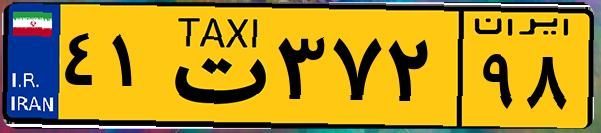1: (110, 28, 158, 98)
2: (385, 28, 445, 110)
3: (270, 28, 330, 110)
4: (57, 26, 110, 100)
7: (330, 28, 385, 110)
8: (525, 38, 570, 115)
9: (475, 38, 525, 113)
ت: (158, 12, 270, 120)
